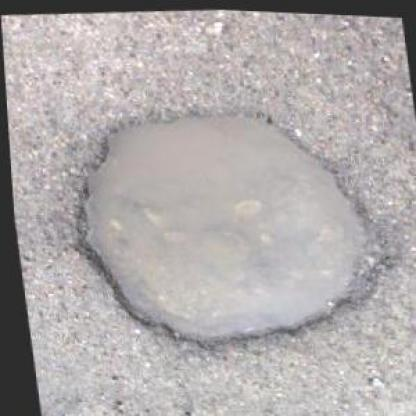pothole: (50, 88, 403, 364)
